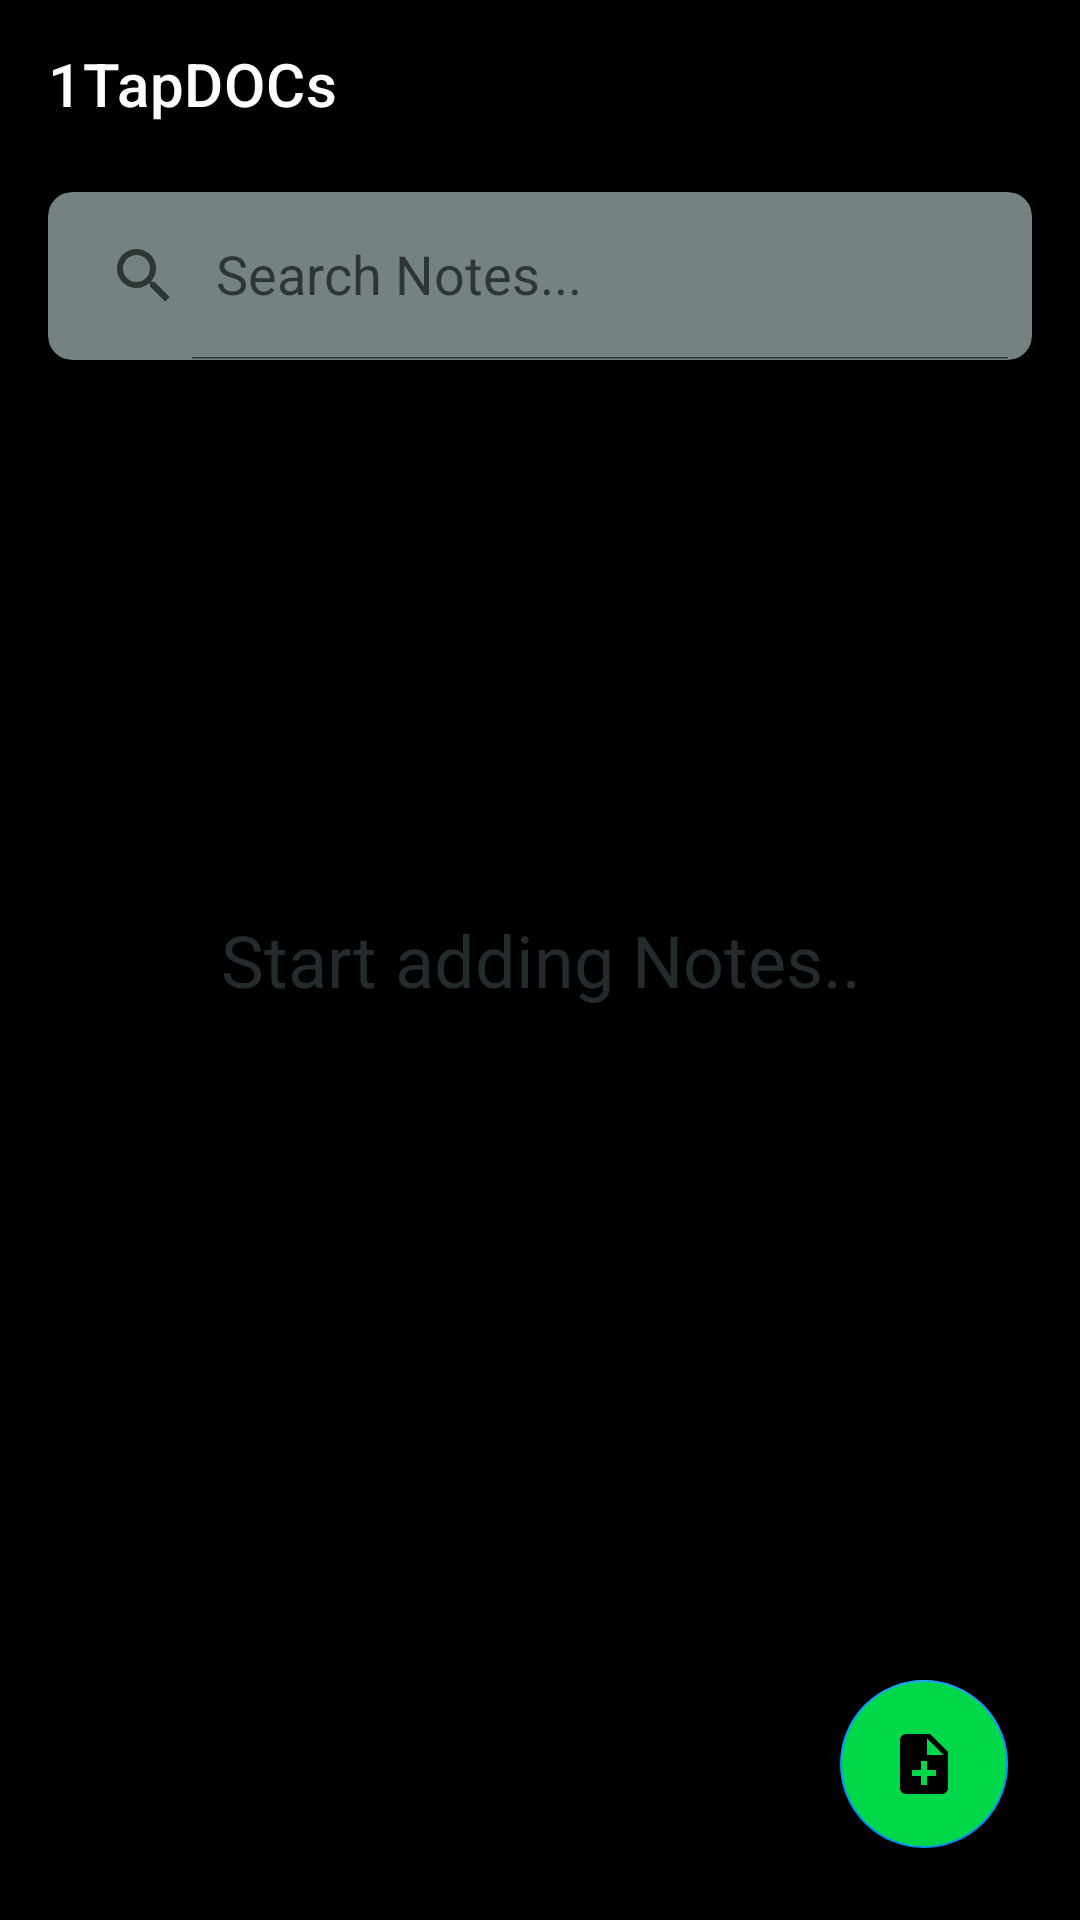

Icon click points for this 1080w x 1920h phone screenshot, format point (x, y):
note: point (924, 1764)
